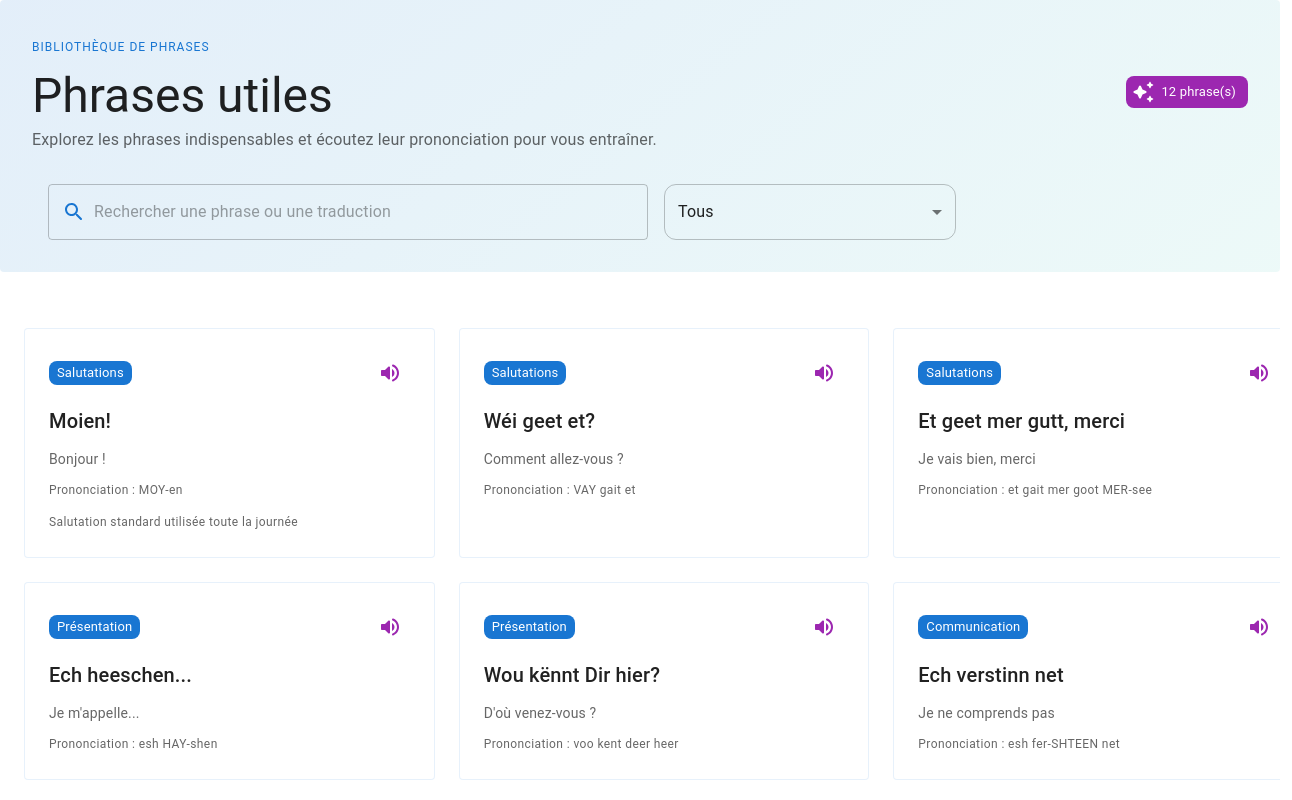
Test: PhraseList › filters phrases based on search input
Type "gare" into the field with placeholder "Rechercher une phrase ou une traduction".
click(371, 212); type("gare")  # box [94, 184, 648, 240]
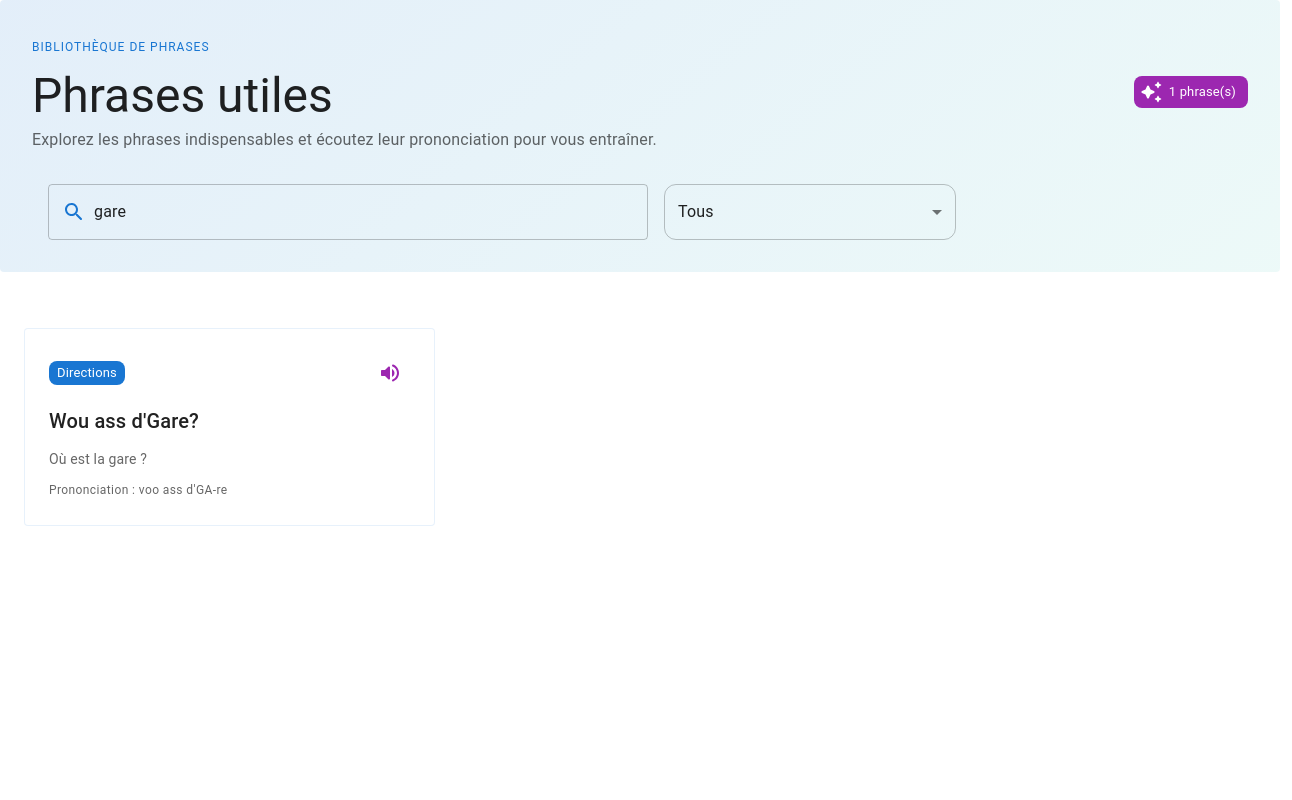
Expected: the heading "Wou ass d'Gare?" is shown, [49, 409, 199, 433]
Expected: the heading "Moien!" is gone
